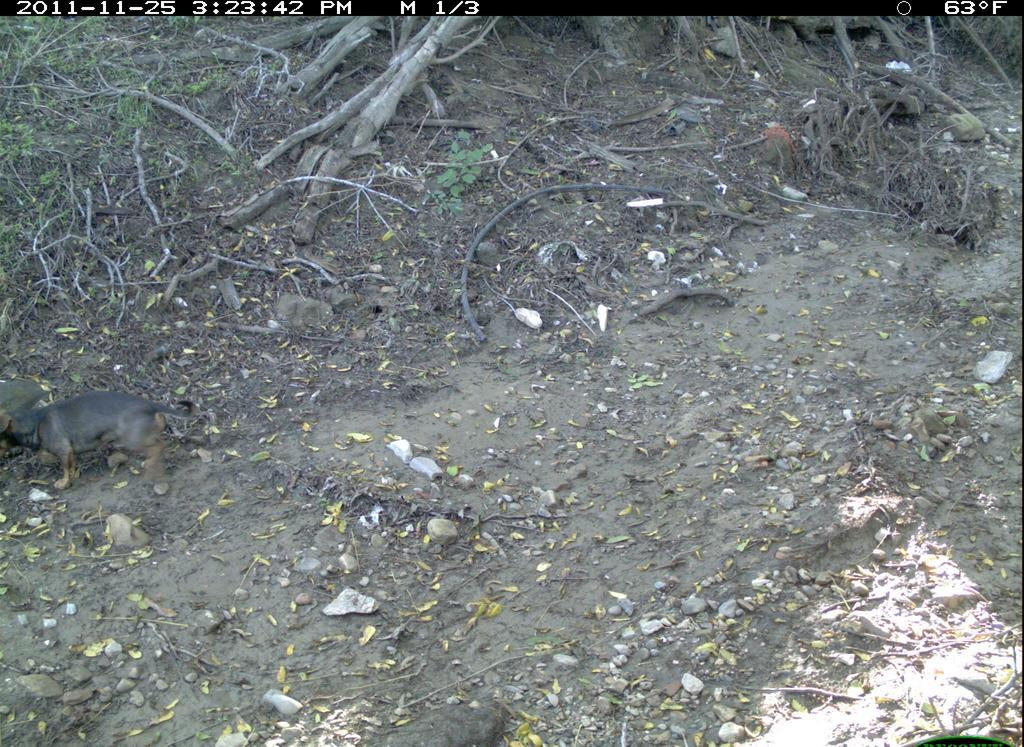dog: (6, 367, 208, 510)
